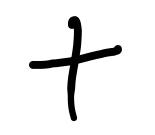plus: (25, 14, 122, 123)
